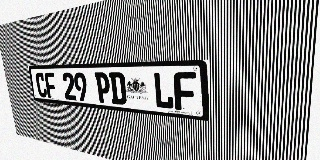2: (62, 72, 76, 100)
9: (73, 72, 89, 101)
C: (35, 73, 48, 98)
D: (109, 72, 127, 105)
F: (173, 72, 197, 112), (44, 72, 57, 99)
L: (153, 72, 174, 110)
P: (94, 72, 111, 104)
